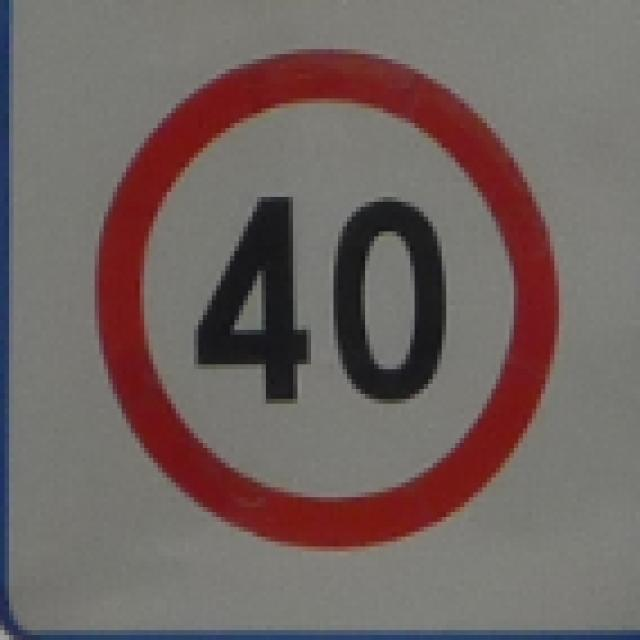Speed: (87, 38, 560, 550)
